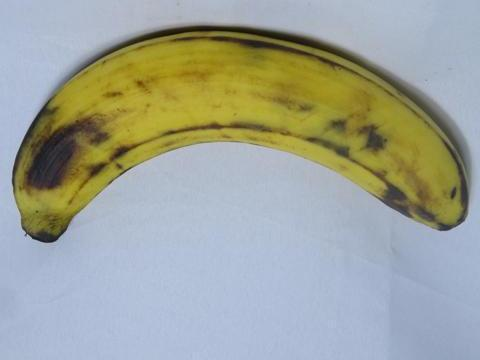ripe: (1, 20, 467, 252)
